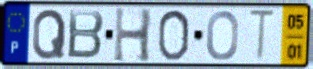B: (66, 9, 106, 61)
H: (112, 6, 154, 65)
O: (156, 8, 192, 63), (205, 9, 241, 62)
Q: (30, 7, 68, 61)
T: (247, 8, 279, 64)
